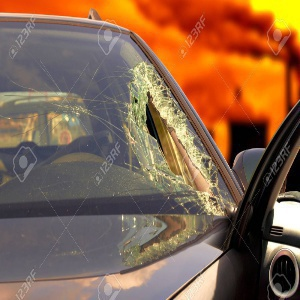front_windshield_glass: (35, 62, 221, 254)
